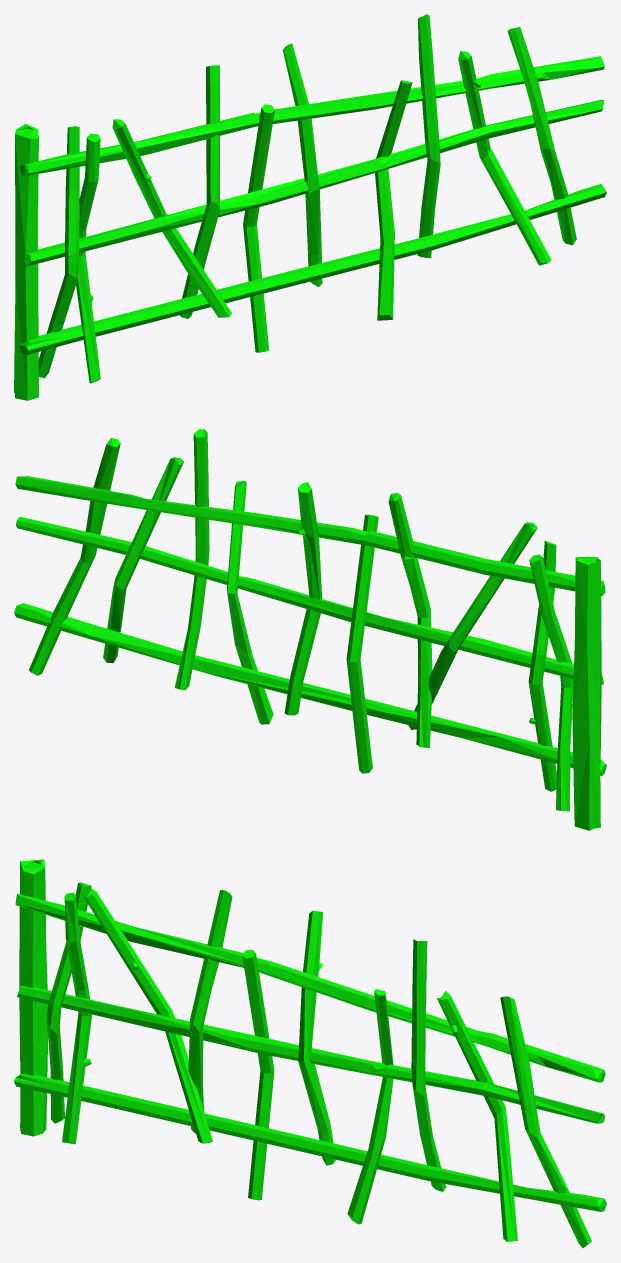
File: SM_Fence_Stick_Weave_3m_Broken_A.fbx
3 renders of one model, top to bottom at view 1: azimuth 30°, elevation 25°; view 2: azimuth 150°, elevation 25°; view 3: azimuth 330°, elevation 25°, orthographic.
Visible parts, largest first — view 1: fence-stick-weave-3m-broken-a; view 2: fence-stick-weave-3m-broken-a; view 3: fence-stick-weave-3m-broken-a.
Part boxes in pixels (x1,y1,x2,y2): fence-stick-weave-3m-broken-a: (14,14,606,400); fence-stick-weave-3m-broken-a: (14,429,606,830); fence-stick-weave-3m-broken-a: (14,859,606,1247).
Bounding box in the file's own units: 3.15 × 1.54 × 0.3632.
